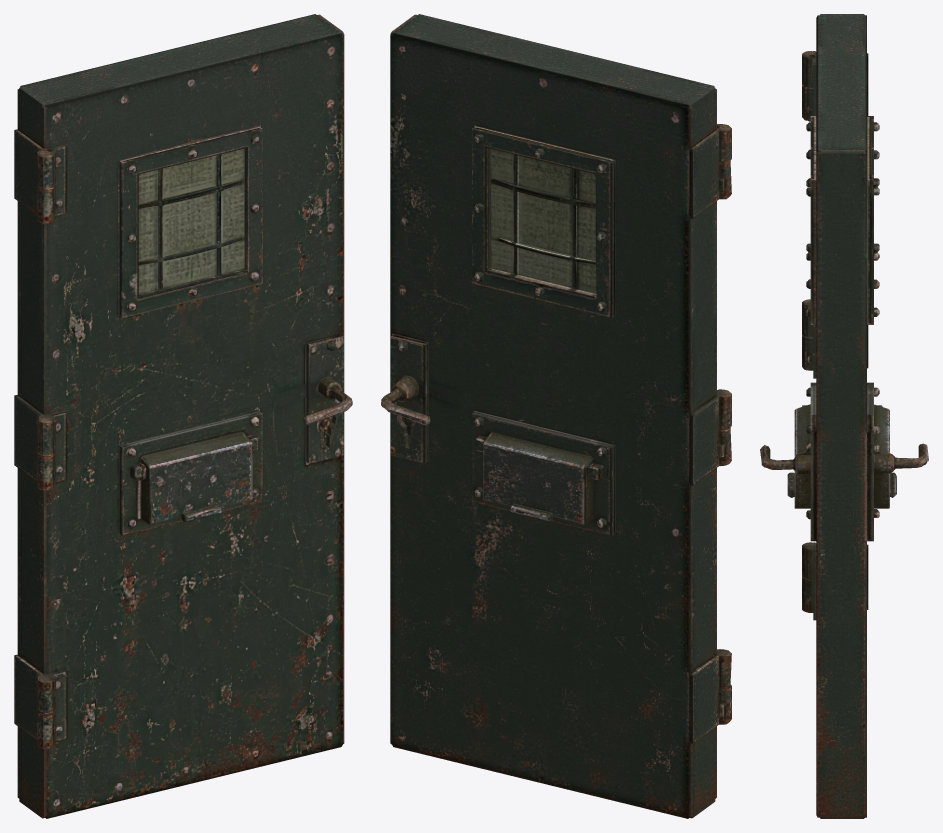
File: asy_cell_door.glb
The picture shows the model from 3 angles, left to right: view 1: azimuth 30°, elevation 25°; view 2: azimuth 150°, elevation 25°; view 3: azimuth 270°, elevation 25°; orthographic projection. The views are drawn at different scales.
Parts seen in each view (by area): view 1: tripo_node_9981bdcd-1138-47e3-b890-d96032f2e309; view 2: tripo_node_9981bdcd-1138-47e3-b890-d96032f2e309; view 3: tripo_node_9981bdcd-1138-47e3-b890-d96032f2e309.
Boxes of the visible parts, x1,y1,x2,y2 form: tripo_node_9981bdcd-1138-47e3-b890-d96032f2e309: (14,14,352,818); tripo_node_9981bdcd-1138-47e3-b890-d96032f2e309: (381,14,731,818); tripo_node_9981bdcd-1138-47e3-b890-d96032f2e309: (760,14,928,818).
Bounding box in the file's own units: 0.9575 × 2.1 × 0.4808.
1 material, 1 textured.
